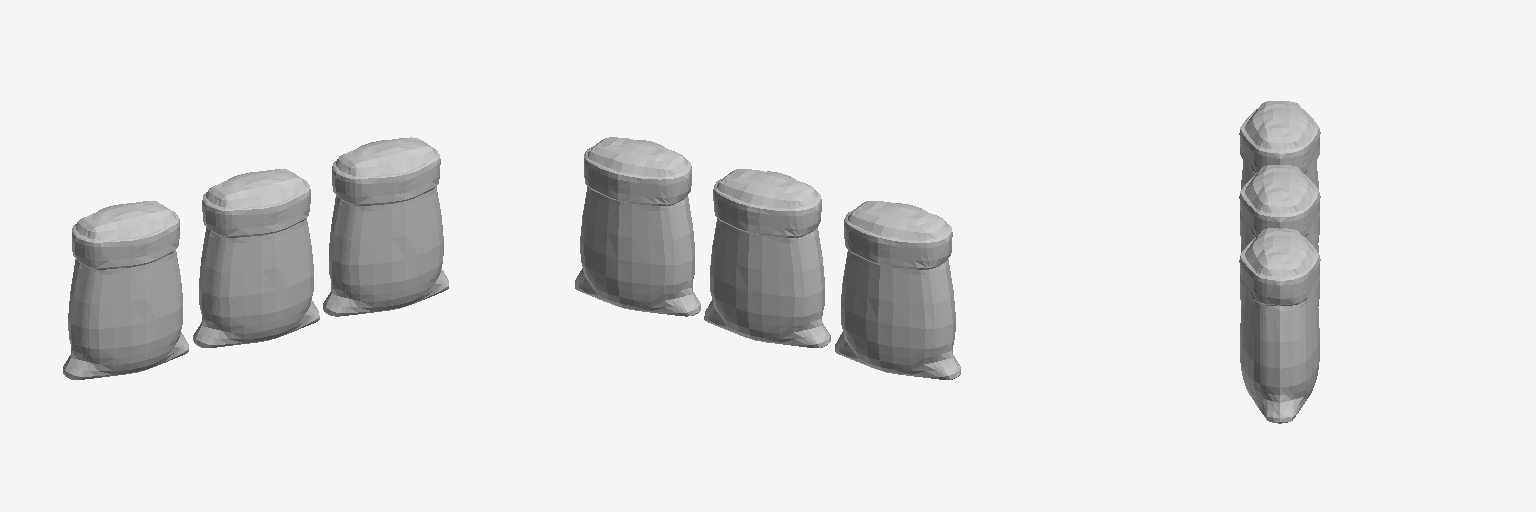
Rendered from MODEL_sacks_3.obj.
3 views of the same model, side by side, from view 1: azimuth 30°, elevation 25°; view 2: azimuth 150°, elevation 25°; view 3: azimuth 270°, elevation 25° (orthographic).
Parts seen in each view (by area): view 1: sackopen_low2, sackopen_low3, sackopen_low1; view 2: sackopen_low2, sackopen_low1, sackopen_low3; view 3: sackopen_low3, sackopen_low1, sackopen_low2.
Part boxes in pixels (x1,y1,x2,y2): sackopen_low2: (193,169,319,347); sackopen_low3: (323,137,448,316); sackopen_low1: (63,201,188,379); sackopen_low2: (704,169,830,347); sackopen_low1: (835,201,960,379); sackopen_low3: (575,137,700,316); sackopen_low3: (1239,228,1320,423); sackopen_low1: (1239,101,1320,243); sackopen_low2: (1239,165,1320,306).
Bounding box in the file's own units: 104 × 40.12 × 18.99.